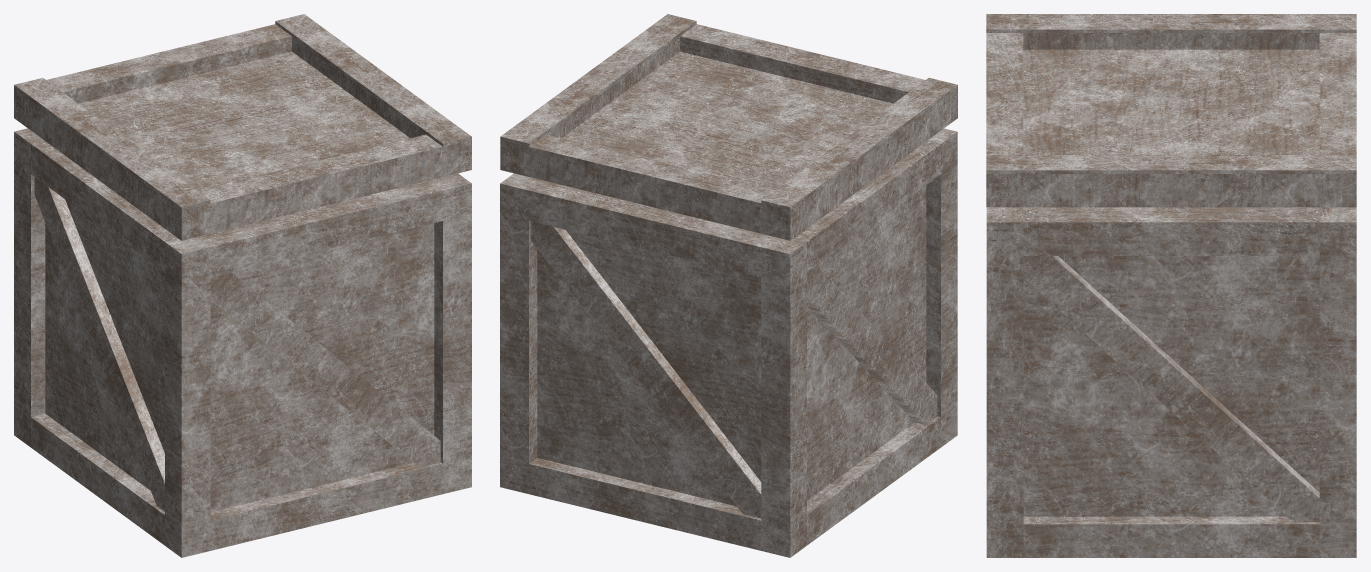
The picture shows the model from 3 angles, left to right: view 1: azimuth 30°, elevation 25°; view 2: azimuth 150°, elevation 25°; view 3: azimuth 270°, elevation 25°; orthographic projection. The views are drawn at different scales.
Visible parts, largest first — view 1: Crate_2_Body Crate_2, Crate_2 Crate_2_Top; view 2: Crate_2_Body Crate_2, Crate_2 Crate_2_Top; view 3: Crate_2_Body Crate_2, Crate_2 Crate_2_Top.
Part boxes in pixels (left/top/right/bottom): Crate_2_Body Crate_2: left=14, top=128, right=471, bottom=557; Crate_2 Crate_2_Top: left=14, top=14, right=471, bottom=240; Crate_2_Body Crate_2: left=500, top=128, right=957, bottom=557; Crate_2 Crate_2_Top: left=500, top=14, right=957, bottom=240; Crate_2_Body Crate_2: left=986, top=207, right=1356, bottom=557; Crate_2 Crate_2_Top: left=986, top=14, right=1356, bottom=207.
Size of the model in its own units: 0.01 by 0.0115 by 0.01.
1 material, 1 textured.
